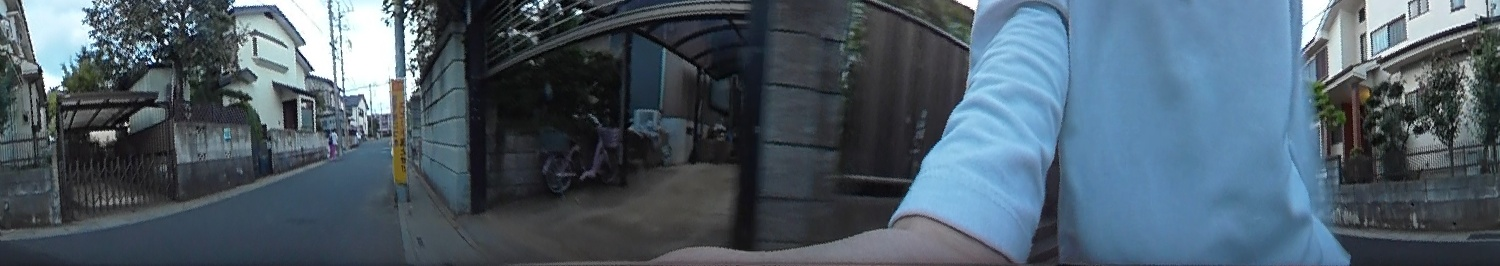difficult_person: (327, 126, 339, 159)
